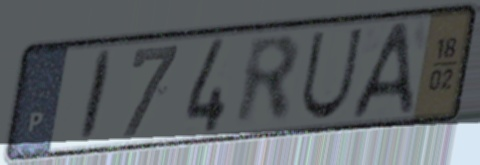4: (183, 34, 229, 137)
7: (119, 42, 183, 140)
A: (347, 18, 417, 123)
I: (76, 47, 117, 146)
R: (232, 33, 303, 131)
U: (297, 25, 367, 123)
